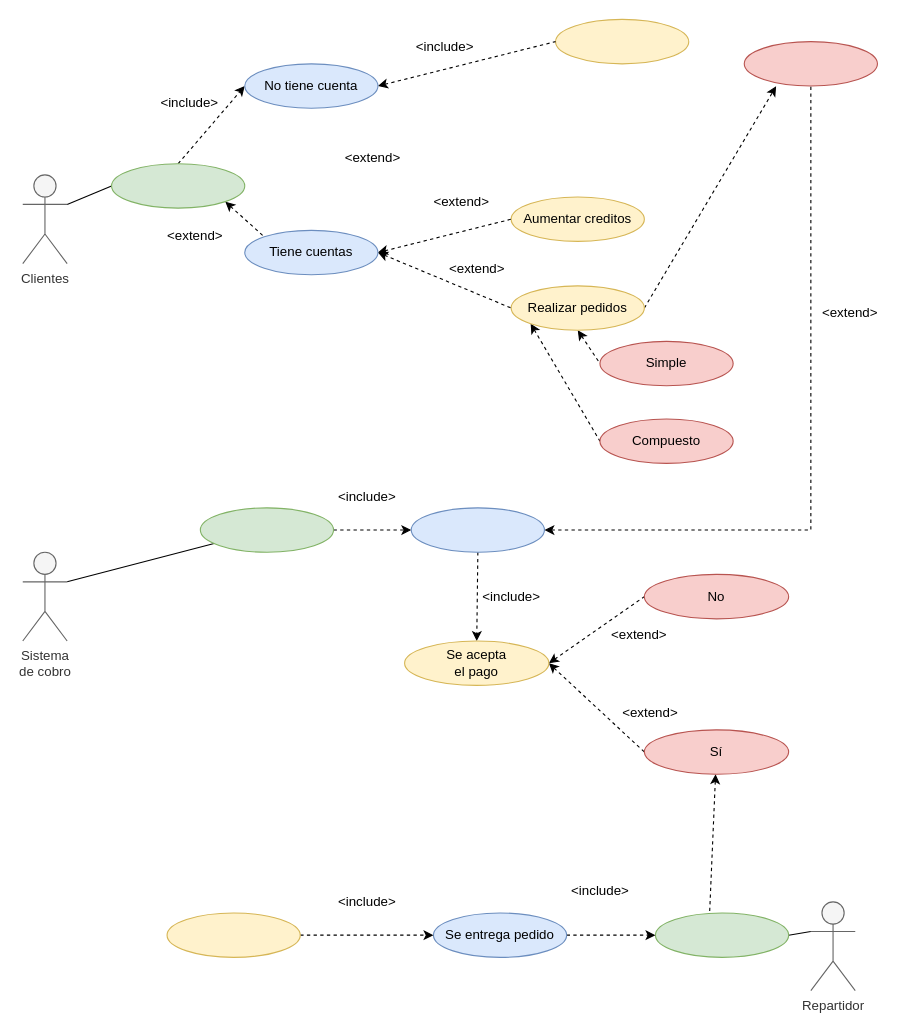
Some shapes in this 908 by 1033 pixel diagram are drawn without their labels. The box of each missing label's shape, as (x1, y1, x2, y2) in pixels:
Autenticarse: (110, 163, 245, 208)
Cambia estado pedido: (166, 912, 300, 957)
Comprobar cobros pendientes: (199, 507, 334, 552)
Hacer cobro: (410, 507, 544, 552)
Prepara pedido: (654, 912, 789, 957)
Registrase: (554, 18, 689, 64)
Tiene tarjeta/saldo: (743, 41, 877, 86)
